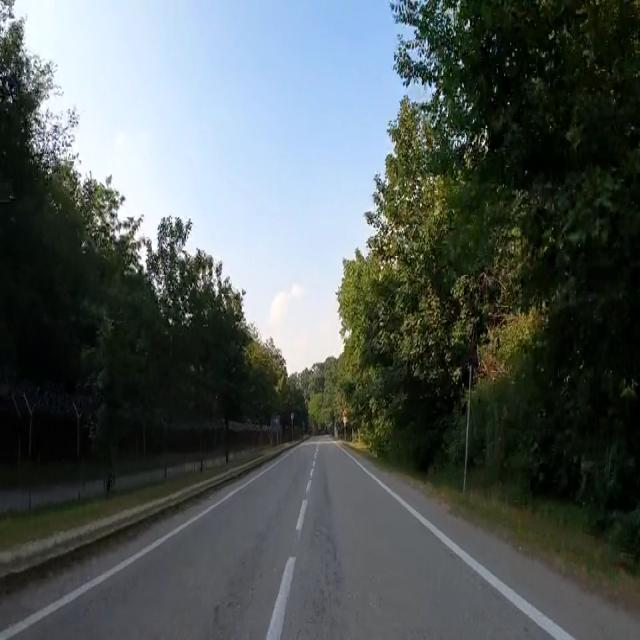lane: (0, 462, 278, 640), (337, 444, 574, 639), (266, 556, 295, 640), (296, 500, 307, 530)
